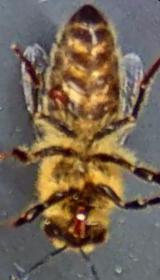varroa_mite: (45, 79, 80, 110)
